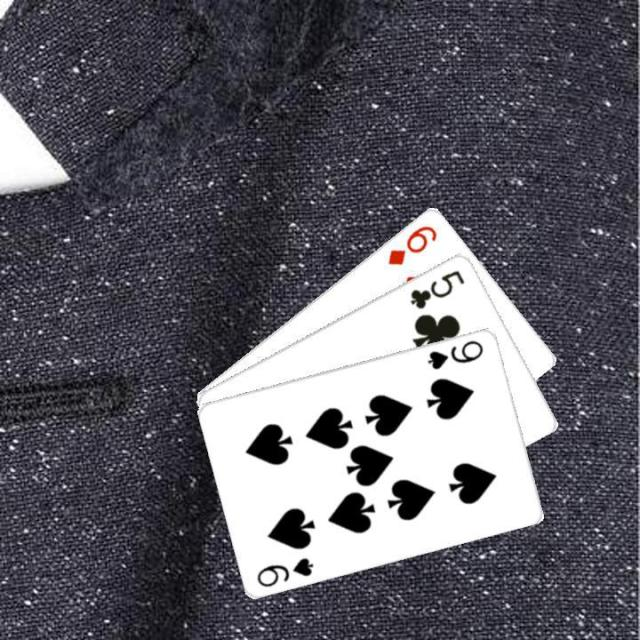5C: (406, 265, 467, 310)
6D: (384, 220, 439, 266)
9S: (253, 553, 316, 588), (423, 336, 485, 371)
